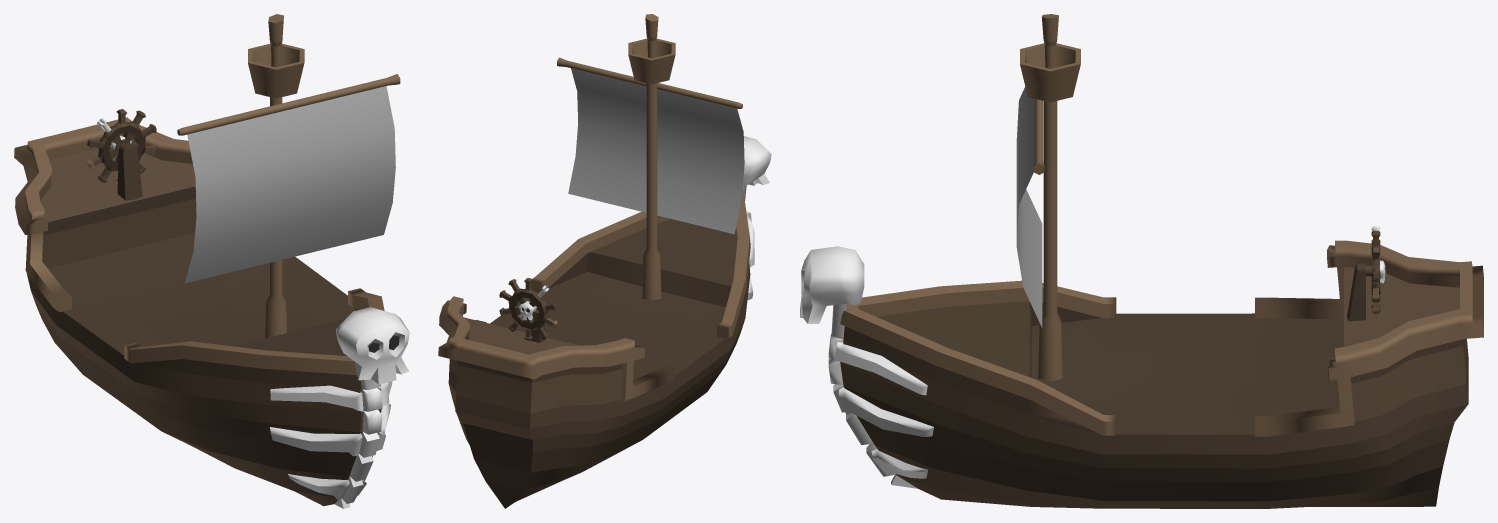
File: shiptest.fbx
3 renders of one model, left to right at view 1: azimuth 30°, elevation 25°; view 2: azimuth 150°, elevation 25°; view 3: azimuth 270°, elevation 25°, orthographic. The views are drawn at different scales.
Parts seen in each view (by area): view 1: Ship_Player1, ShipSail, Ship_Mast1, Ship_Roer, Ship_RoerHolder; view 2: Ship_Player1, ShipSail, Ship_Mast1, Ship_Roer; view 3: Ship_Player1, Ship_Mast1, ShipSail, Ship_Roer, Ship_RoerHolder.
Boxes of the visible parts, x1=… form: Ship_Player1: x1=14, y1=117, x2=409, y2=508; ShipSail: x1=184, y1=86, x2=395, y2=283; Ship_Mast1: x1=177, y1=14, x2=400, y2=338; Ship_Roer: x1=87, y1=109, x2=156, y2=182; Ship_RoerHolder: x1=117, y1=143, x2=142, y2=200; Ship_Player1: x1=438, y1=136, x2=771, y2=508; ShipSail: x1=568, y1=68, x2=744, y2=234; Ship_Mast1: x1=557, y1=14, x2=742, y2=300; Ship_Roer: x1=499, y1=278, x2=557, y2=340; Ship_Player1: x1=800, y1=240, x2=1483, y2=508; Ship_Mast1: x1=1020, y1=14, x2=1080, y2=381; ShipSail: x1=1016, y1=87, x2=1042, y2=327; Ship_Roer: x1=1366, y1=226, x2=1385, y2=313; Ship_RoerHolder: x1=1347, y1=262, x2=1365, y2=321.
Size of the model in its own units: 294 by 540 by 677.
2 materials, 1 textured.
